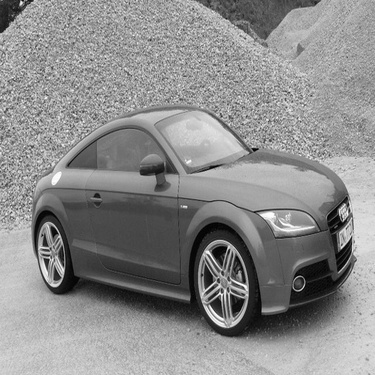car: (21, 94, 362, 344)
